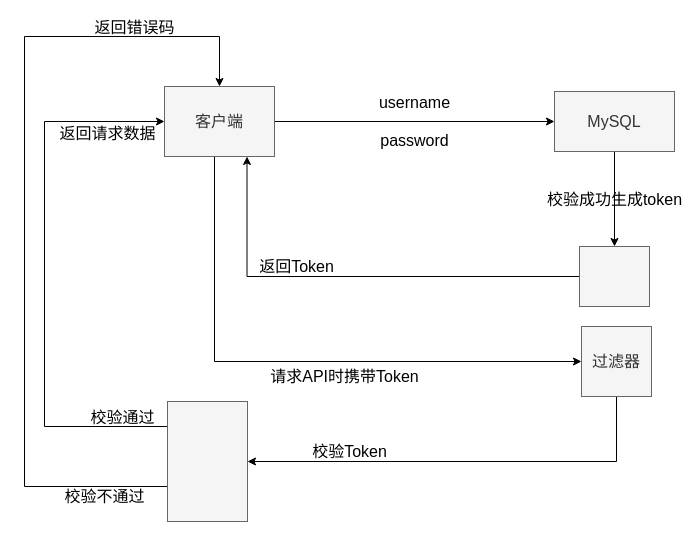
This 699x539 diagram has some shape labels left out. The centre of each missing label's shape, as x and y in pixels:
"Token" goes at [614,276].
"服务器端" goes at [207,461].
